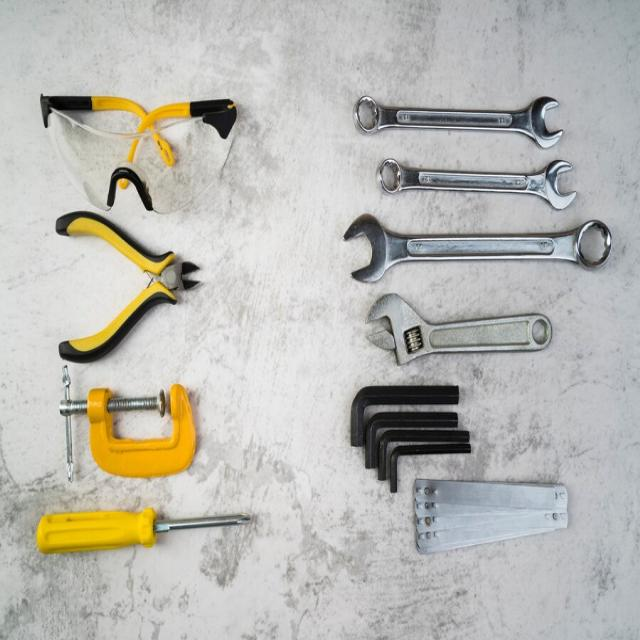Screwdriver: (36, 508, 251, 553)
